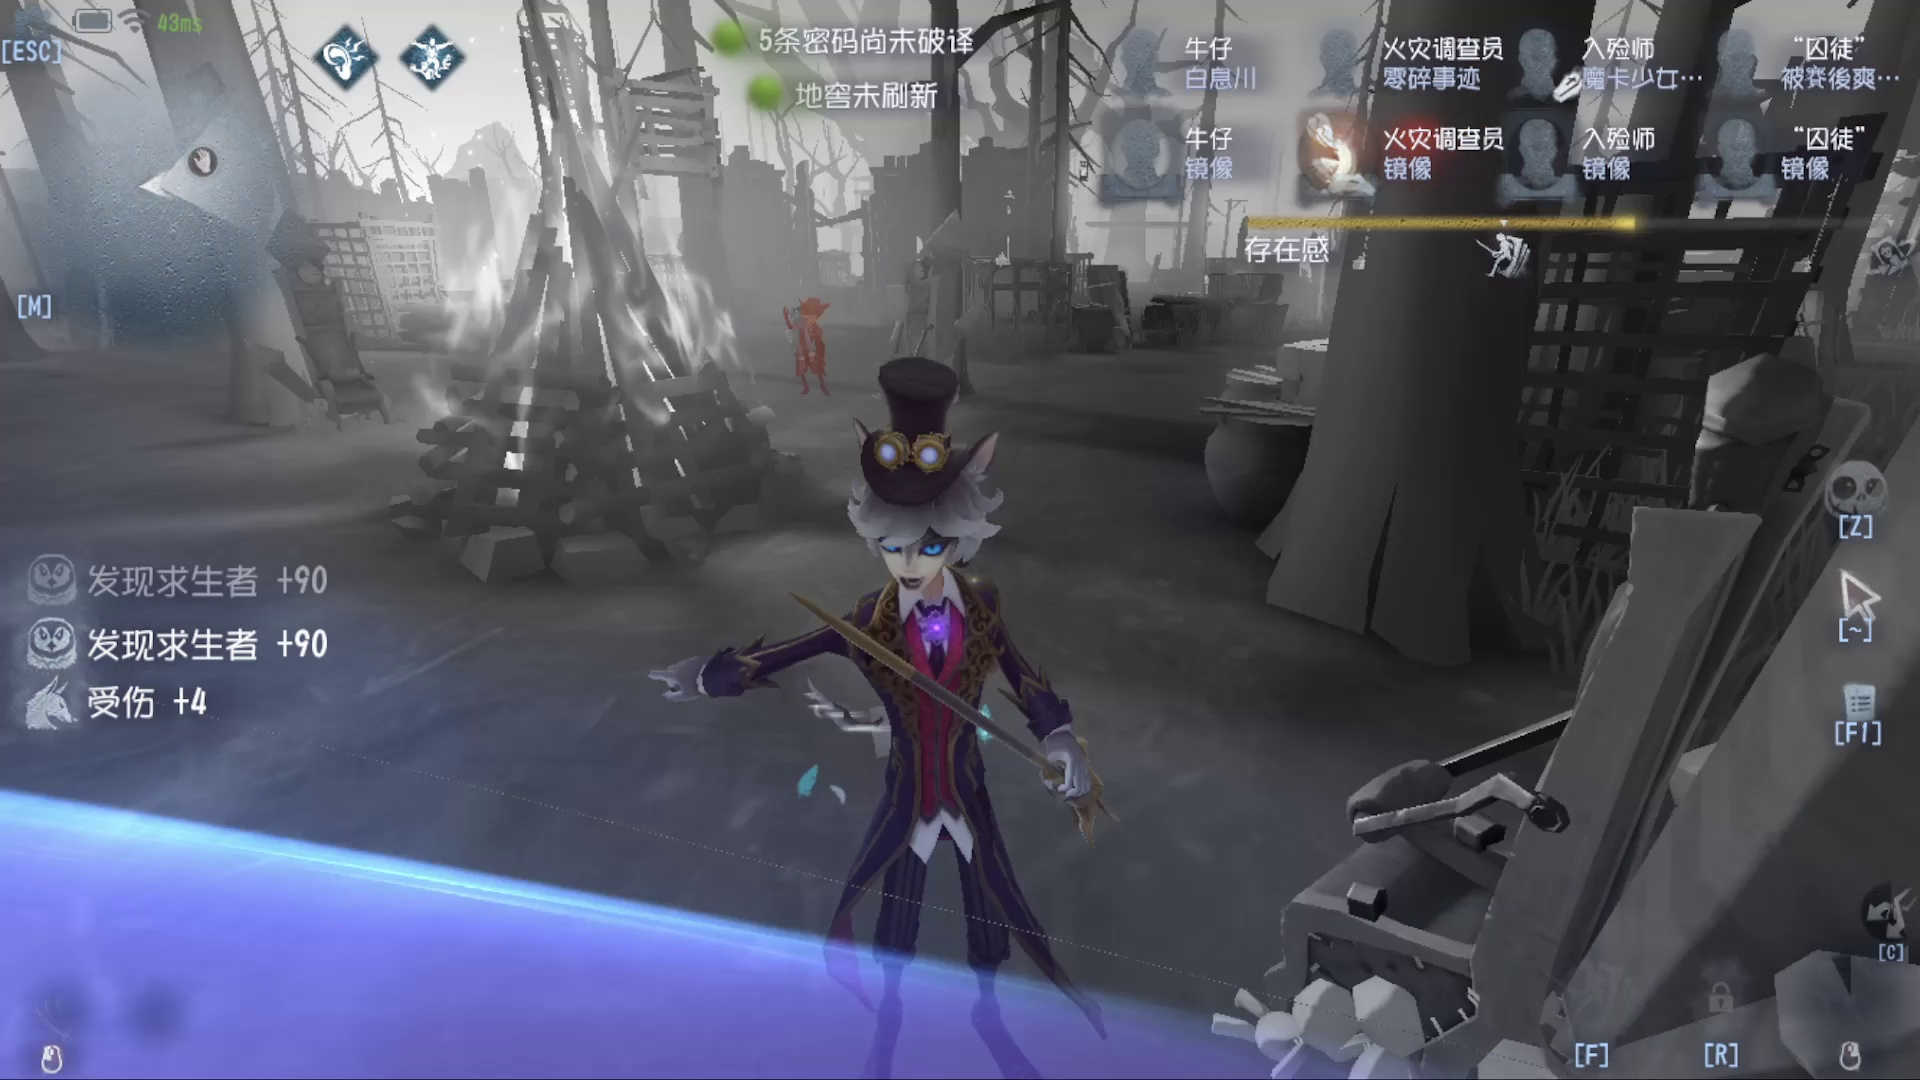求生者: (774, 294, 851, 419)
狂欢之椅: (229, 208, 411, 454), (877, 210, 975, 405)
